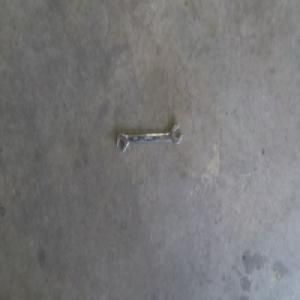Wrench: (116, 118, 183, 146)
